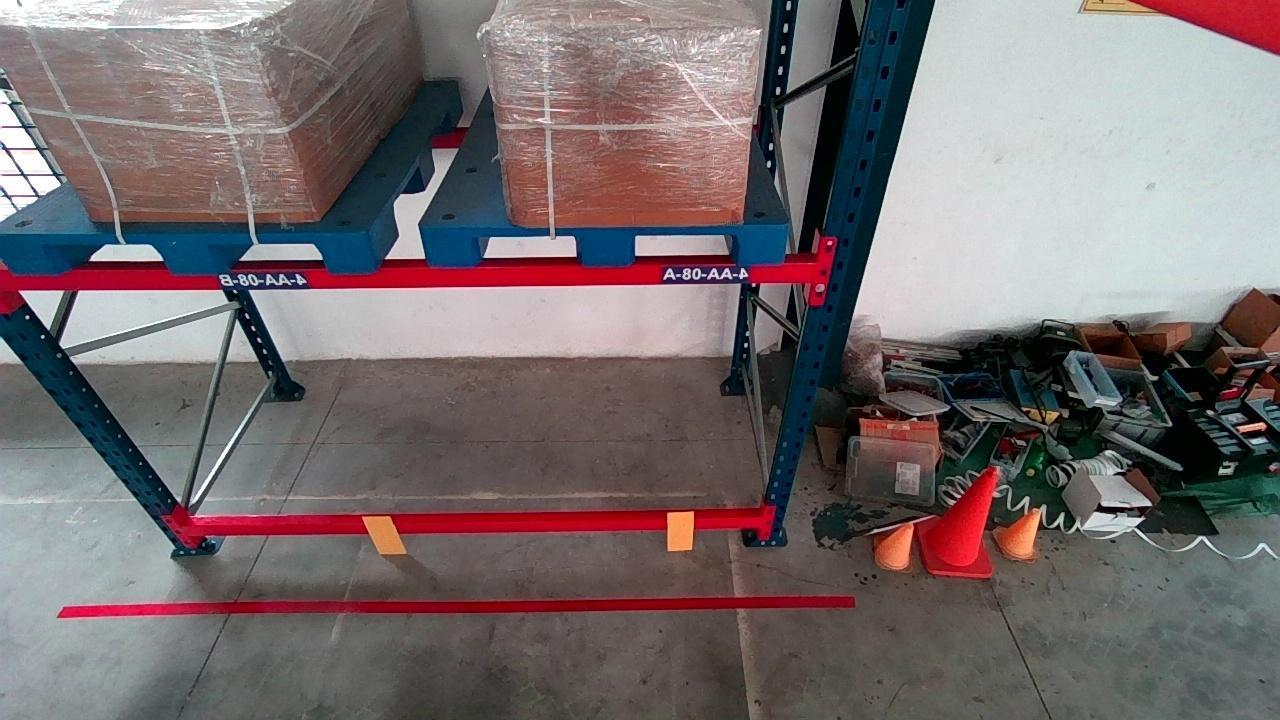h_rack: (185, 513, 764, 540)
orange_strip: (365, 514, 407, 554), (666, 509, 696, 551)
red_line: (52, 598, 857, 620)
small_pallet: (11, 229, 373, 274), (432, 223, 788, 265)
